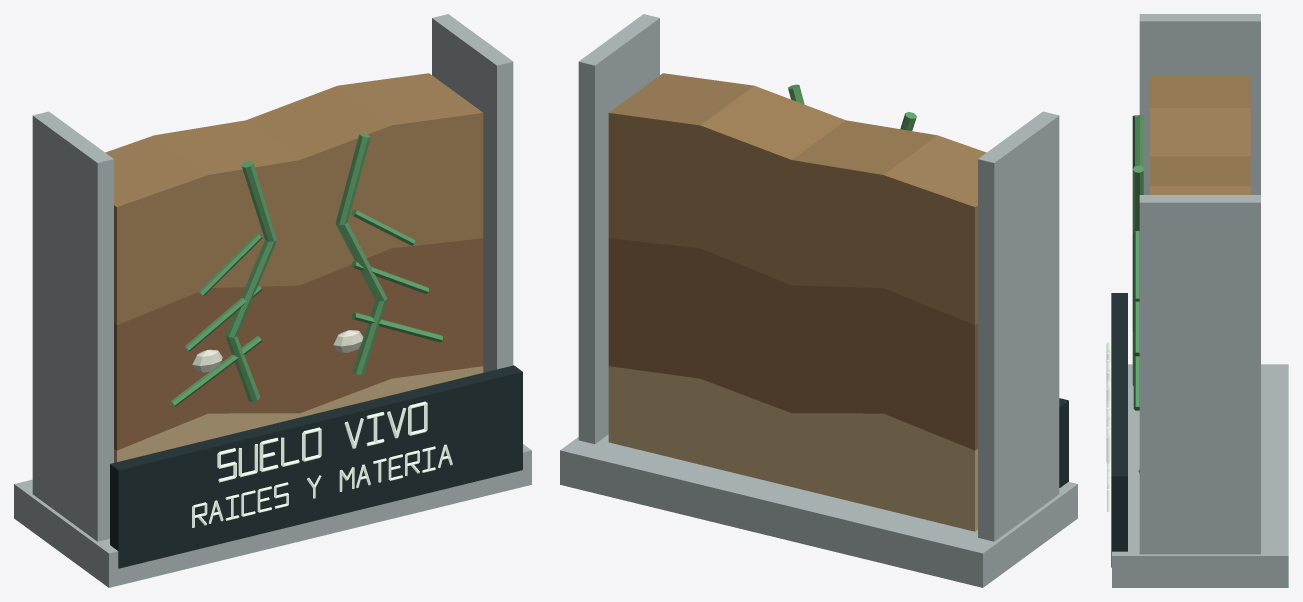
The model's file is SHARED-004.glb.
3 renders of one model, left to right at view 1: azimuth 30°, elevation 25°; view 2: azimuth 150°, elevation 25°; view 3: azimuth 270°, elevation 25°, orthographic. The views are drawn at different scales.
Parts seen in each view (by area): view 1: SHARED-004; view 2: SHARED-004; view 3: SHARED-004.
Part boxes in pixels (left/top/right/bottom): SHARED-004: left=14, top=14, right=531, bottom=587; SHARED-004: left=560, top=14, right=1077, bottom=587; SHARED-004: left=1106, top=14, right=1288, bottom=587.
Size of the model in its own units: 1.8 by 1.68 by 0.7225.
